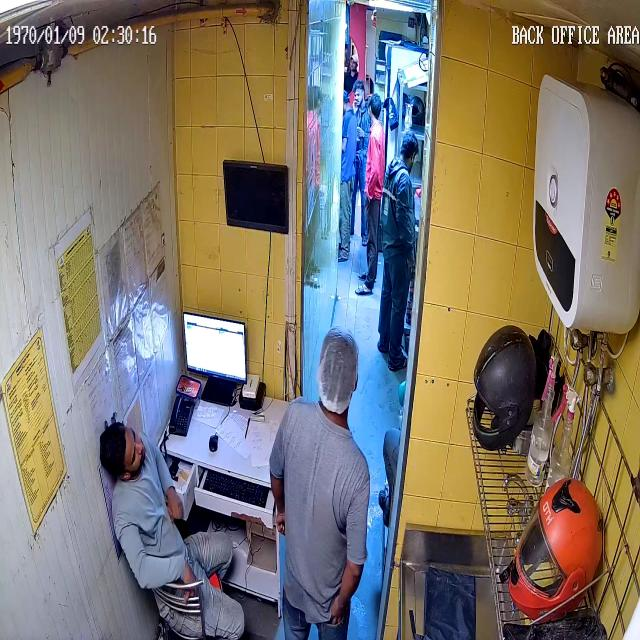helmet: (509, 476, 604, 623), (469, 326, 536, 453)
no_helmet: (317, 327, 359, 427), (99, 421, 145, 480), (400, 131, 419, 174), (368, 93, 382, 125), (352, 79, 365, 110)
